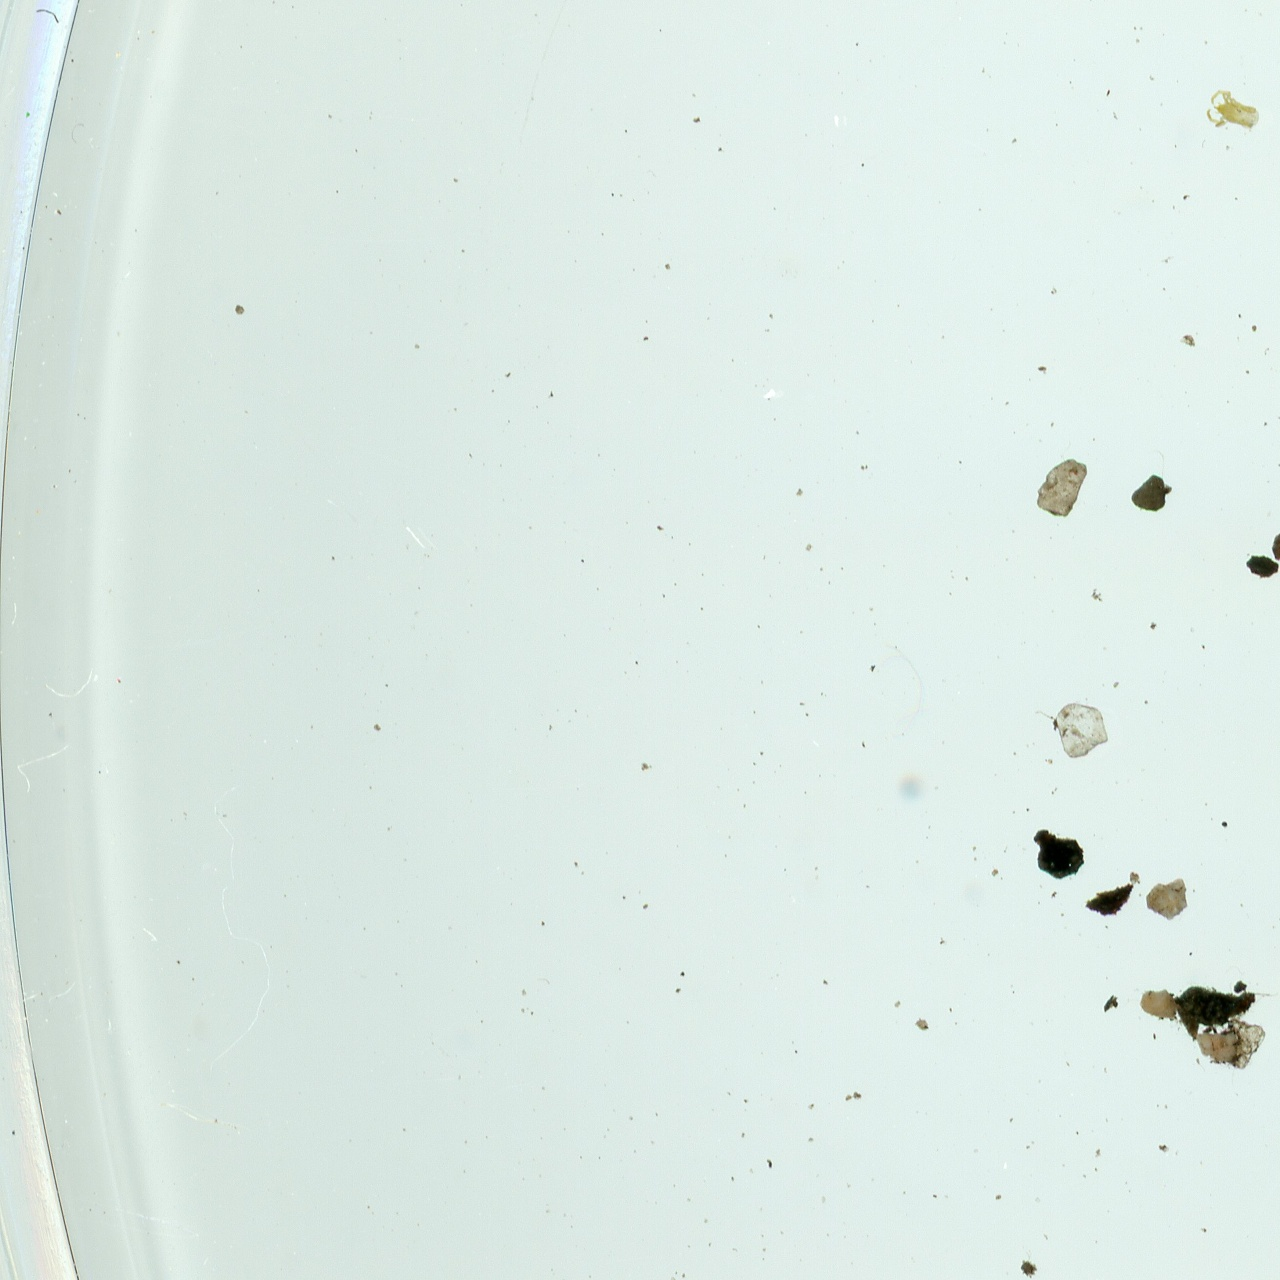arthropod: (1203, 85, 1262, 131)
